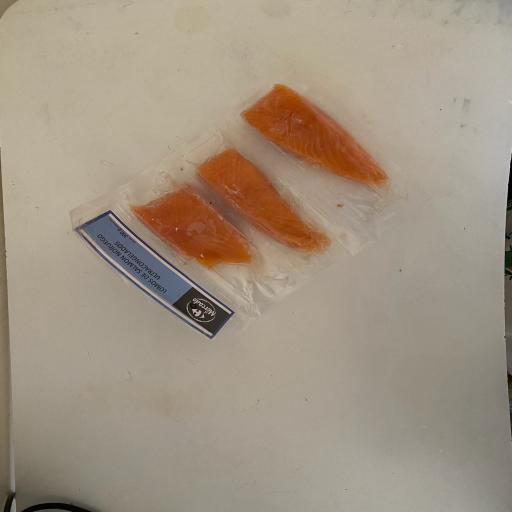salmon: (220, 68, 424, 212), (166, 139, 365, 262), (106, 161, 274, 285)
